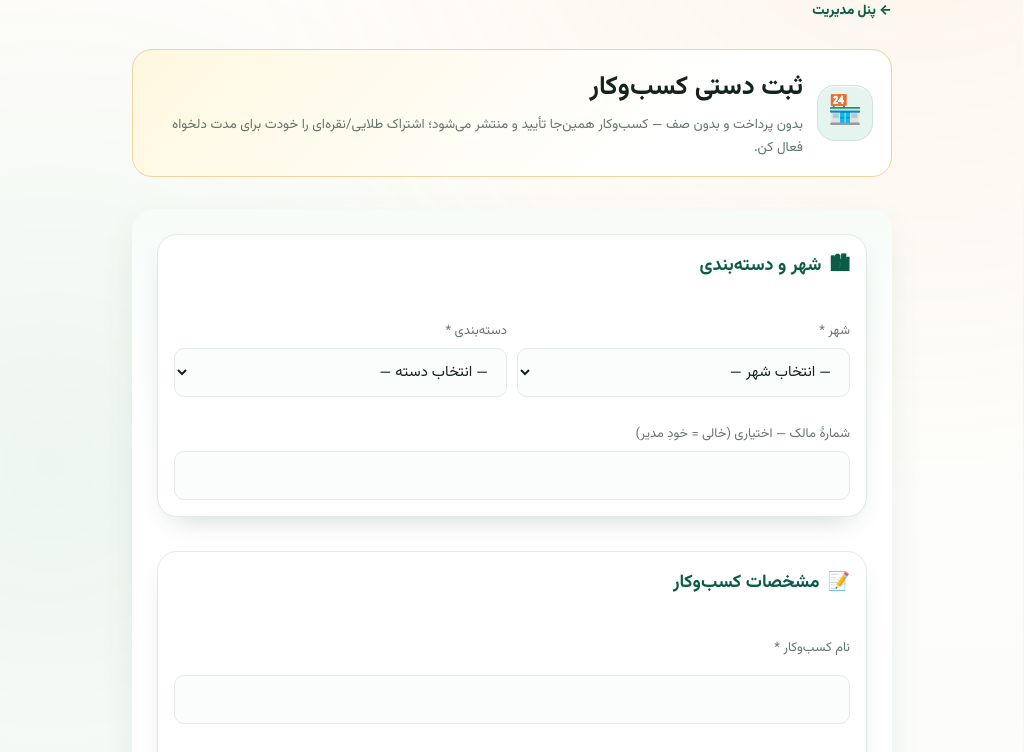
Test: AdminBusinessCreate (ثبت دستی کسب‌وکار — صفحهٔ جدا) › keeps ONE Leaflet instance while the city framing data arrives (no grey re-init)
Select "شهر نمونه" in the dropdown with test id "nb-city": (684, 372) [517,348,850,397]
(page scrolled)
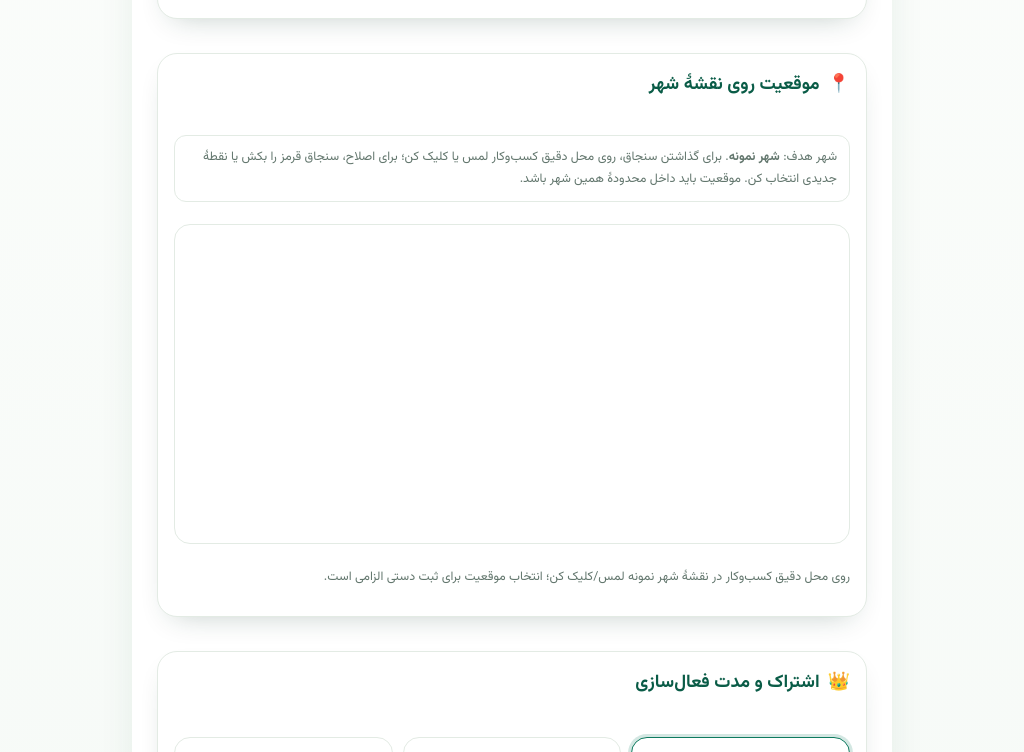
Now the element with test id "nb-map" is shown, box [174,224,850,544]
